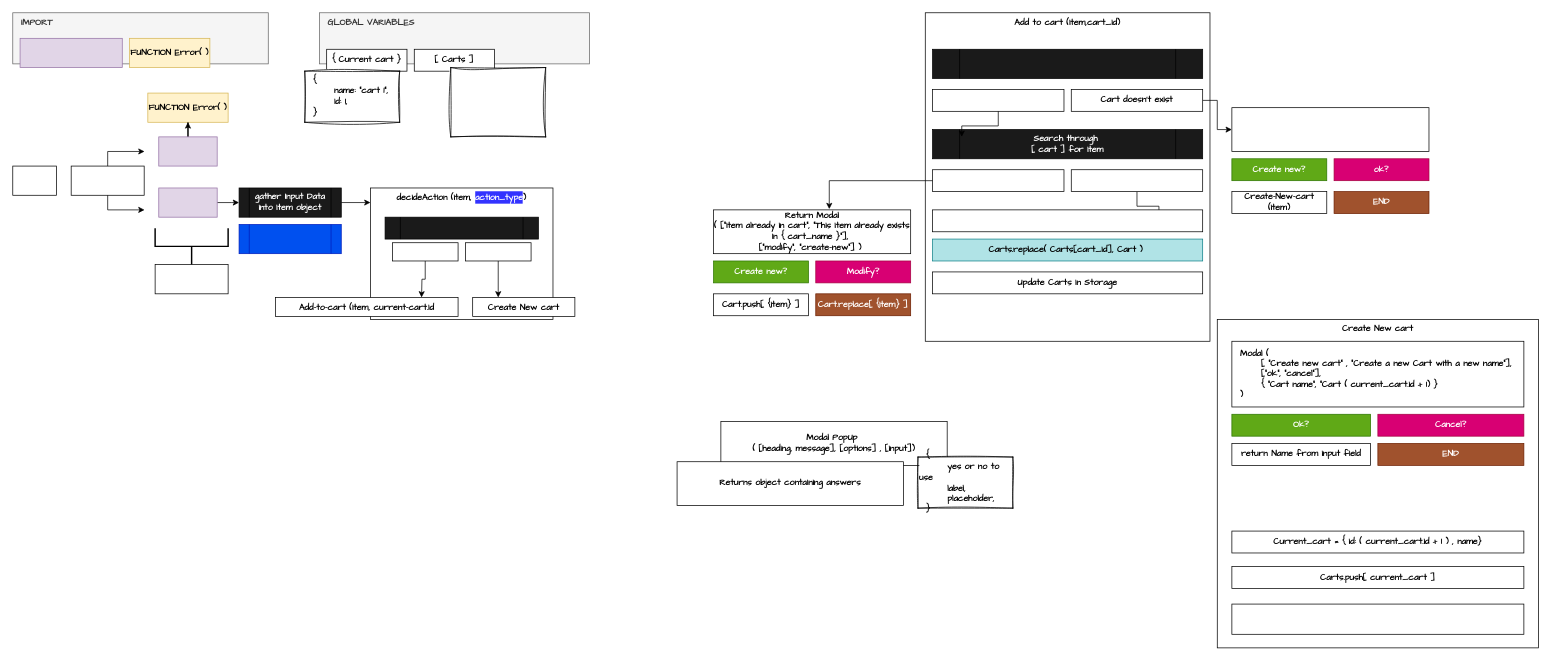
The diagram is 1551 pixels wide and 661 high, and some of its shapes have lost their labels. Each missing label, with the centre of its shape:
[ { name: "cart 1", id: 1, } ]: [498,102]
Add to cart (item, current_cart.id): [1377,618]
Button Pressed: [107,180]
Cart Exists?: [998,100]
Cart.push[ {item} ]---new instance of item: [1067,220]
Check button / Action type: [289,239]
checkInputs( ): [191,279]
Decide action_type: [461,227]
Form is valid (True or false): [70,53]
Form is Valid?: [187,202]
Input: [34,180]
Item in cart?: [998,180]
new cart?: [498,251]
Not in cart?: [1137,180]
Not Valid?: [187,151]
Return Modal ( ["cart doesn't exist"], ["ok", "create-new"] ): [1330,129]
same cart?: [425,251]
Search through [ Carts ] with card_id: [1067,63]
